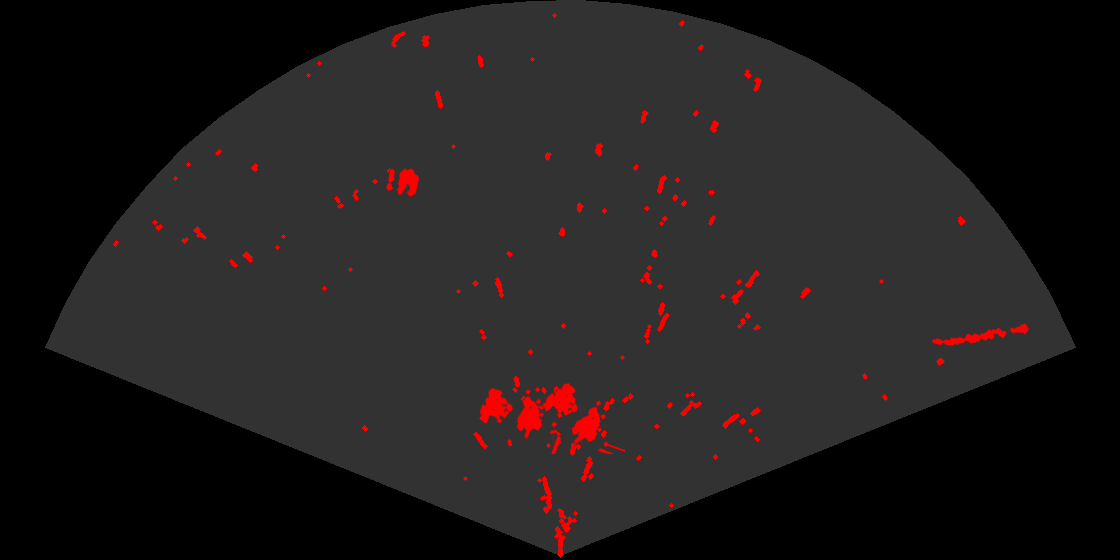ball: (385, 167, 421, 198)
cage: (541, 382, 625, 454), (478, 386, 557, 446)
chain: (930, 322, 1031, 347)
